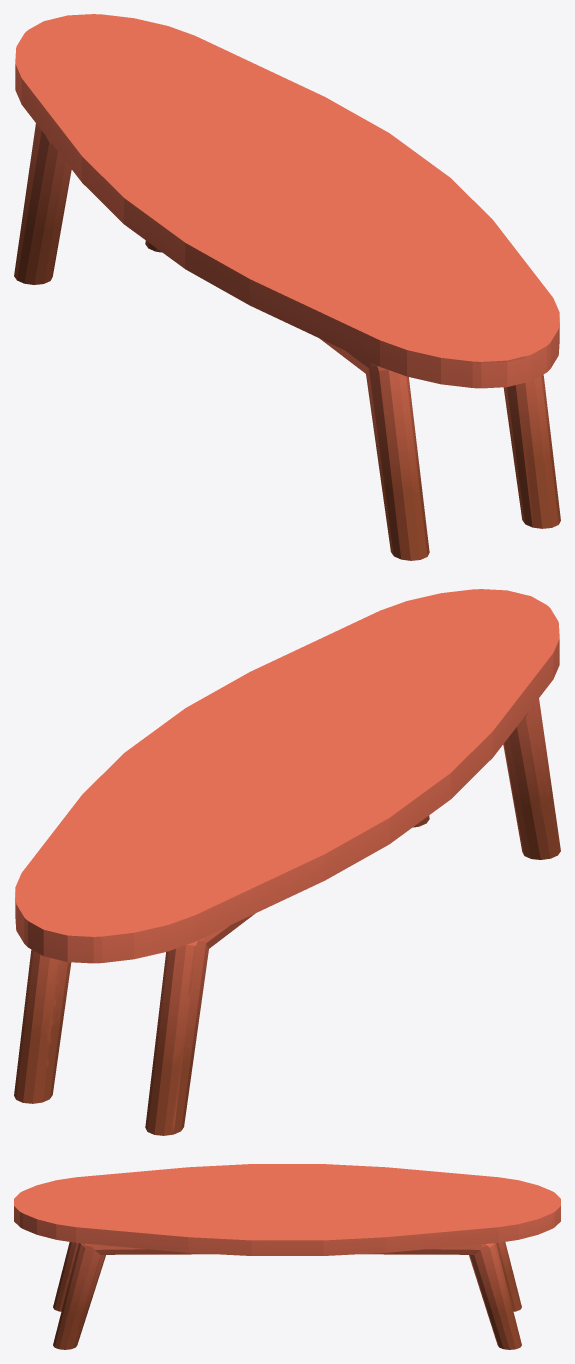
Rendered from cohi.gltf.
3 renders of one model, top to bottom at view 1: azimuth 30°, elevation 25°; view 2: azimuth 150°, elevation 25°; view 3: azimuth 270°, elevation 25°, orthographic. The views are drawn at different scales.
Visible parts, largest first — view 1: cofeetable; view 2: cofeetable; view 3: cofeetable.
Part boxes in pixels (<box>): cofeetable: <box>14,14,560,560</box>; cofeetable: <box>14,589,560,1135</box>; cofeetable: <box>14,1164,560,1349</box>.
Bounding box in the file's own units: 0.5075 × 0.3844 × 1.54.
Materials: 1 (1 with a texture image).
